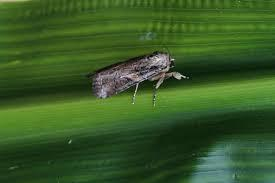fallarmy_worm: (82, 49, 198, 108)
